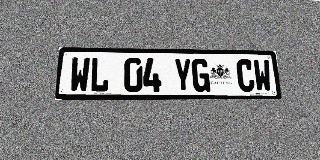0: (124, 58, 142, 92)
4: (143, 58, 161, 92)
C: (236, 59, 255, 92)
G: (191, 59, 210, 92)
L: (89, 57, 110, 92)
W: (69, 57, 90, 92), (253, 59, 272, 92)
Y: (173, 58, 192, 92)
